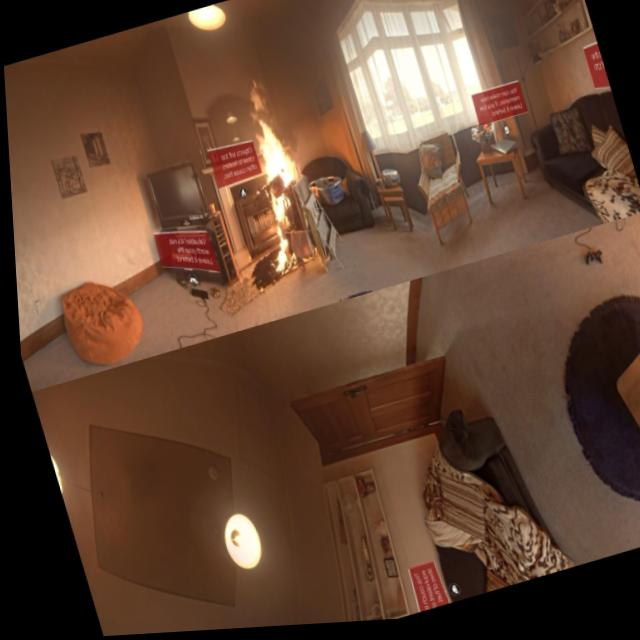fire: (220, 68, 322, 275)
